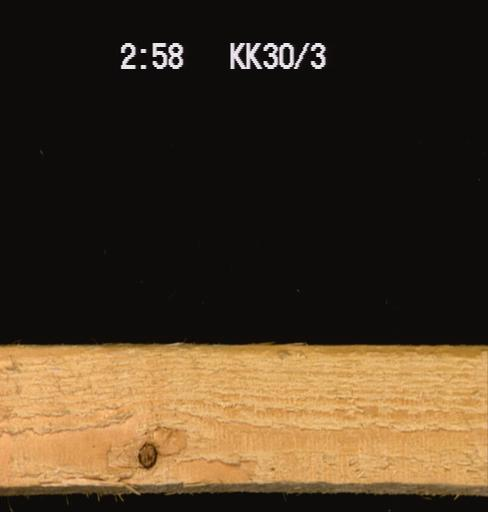dry_knot: (134, 438, 158, 470)
wave: (182, 343, 487, 364)
